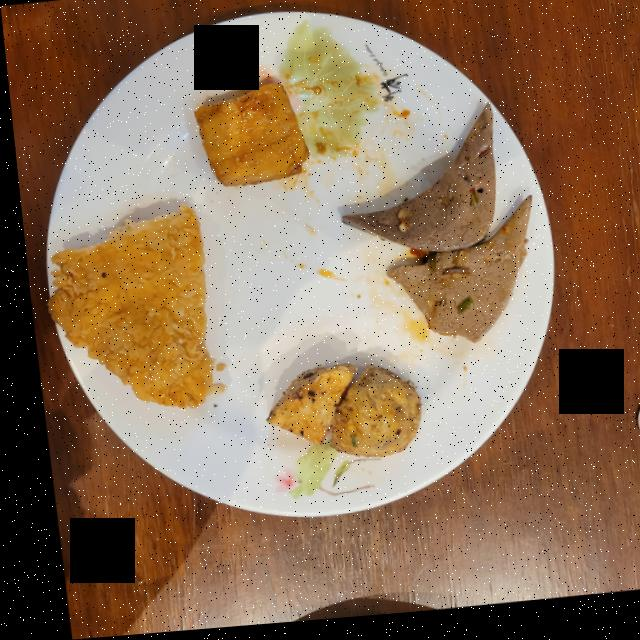coin: (627, 409, 640, 452)
creamy tofu: (191, 87, 305, 190)
fried chicken cutlet: (42, 207, 205, 410)
fried potato: (256, 368, 411, 462)
pig liver: (336, 112, 526, 349)
